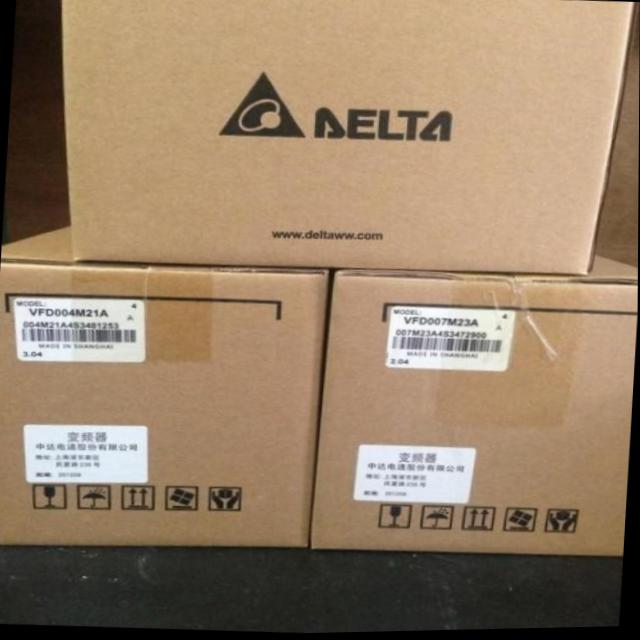box: (61, 0, 640, 275), (0, 226, 330, 549), (312, 255, 638, 560)
